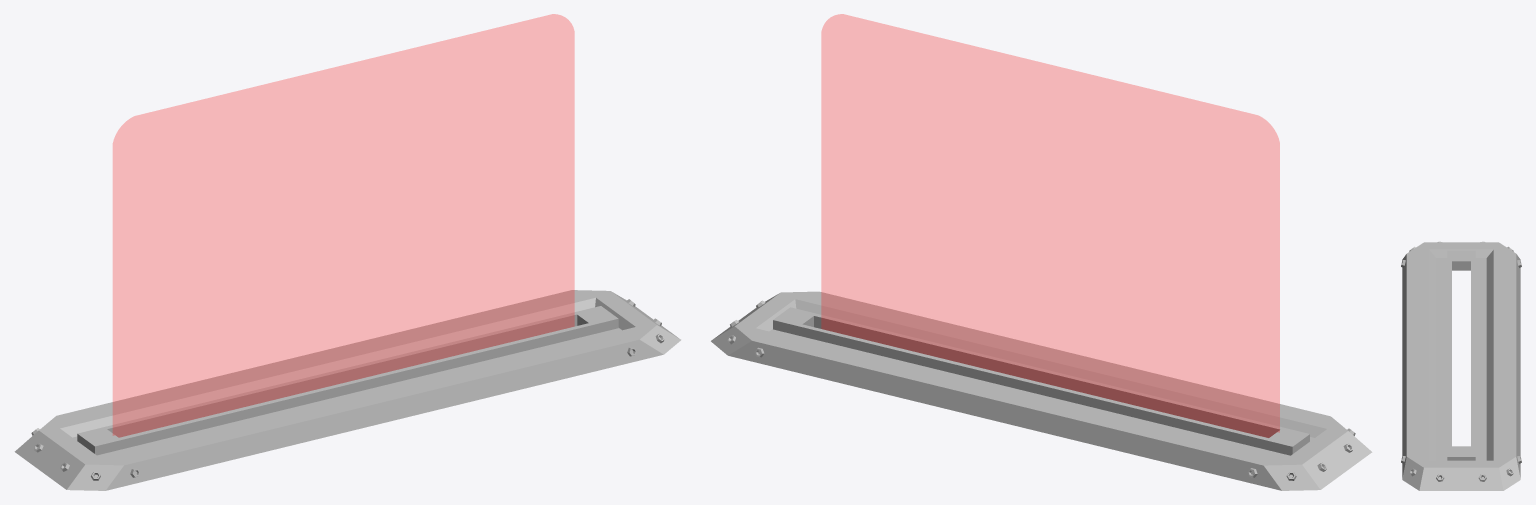
The model's file is powerup_wall.fbx.
3 views of the same model, side by side, from view 1: azimuth 30°, elevation 25°; view 2: azimuth 150°, elevation 25°; view 3: azimuth 270°, elevation 25° (orthographic). The views are drawn at different scales.
Parts seen in each view (by area): view 1: Cube, Base; view 2: Cube, Base; view 3: Base.
Part boxes in pixels (x1,y1,x2,y2): Cube: (113,14,574,437); Base: (14,290,680,490); Cube: (821,14,1279,437); Base: (711,291,1372,490); Base: (1402,242,1520,490).
Size of the model in its own units: 196 by 102 by 41.42.
